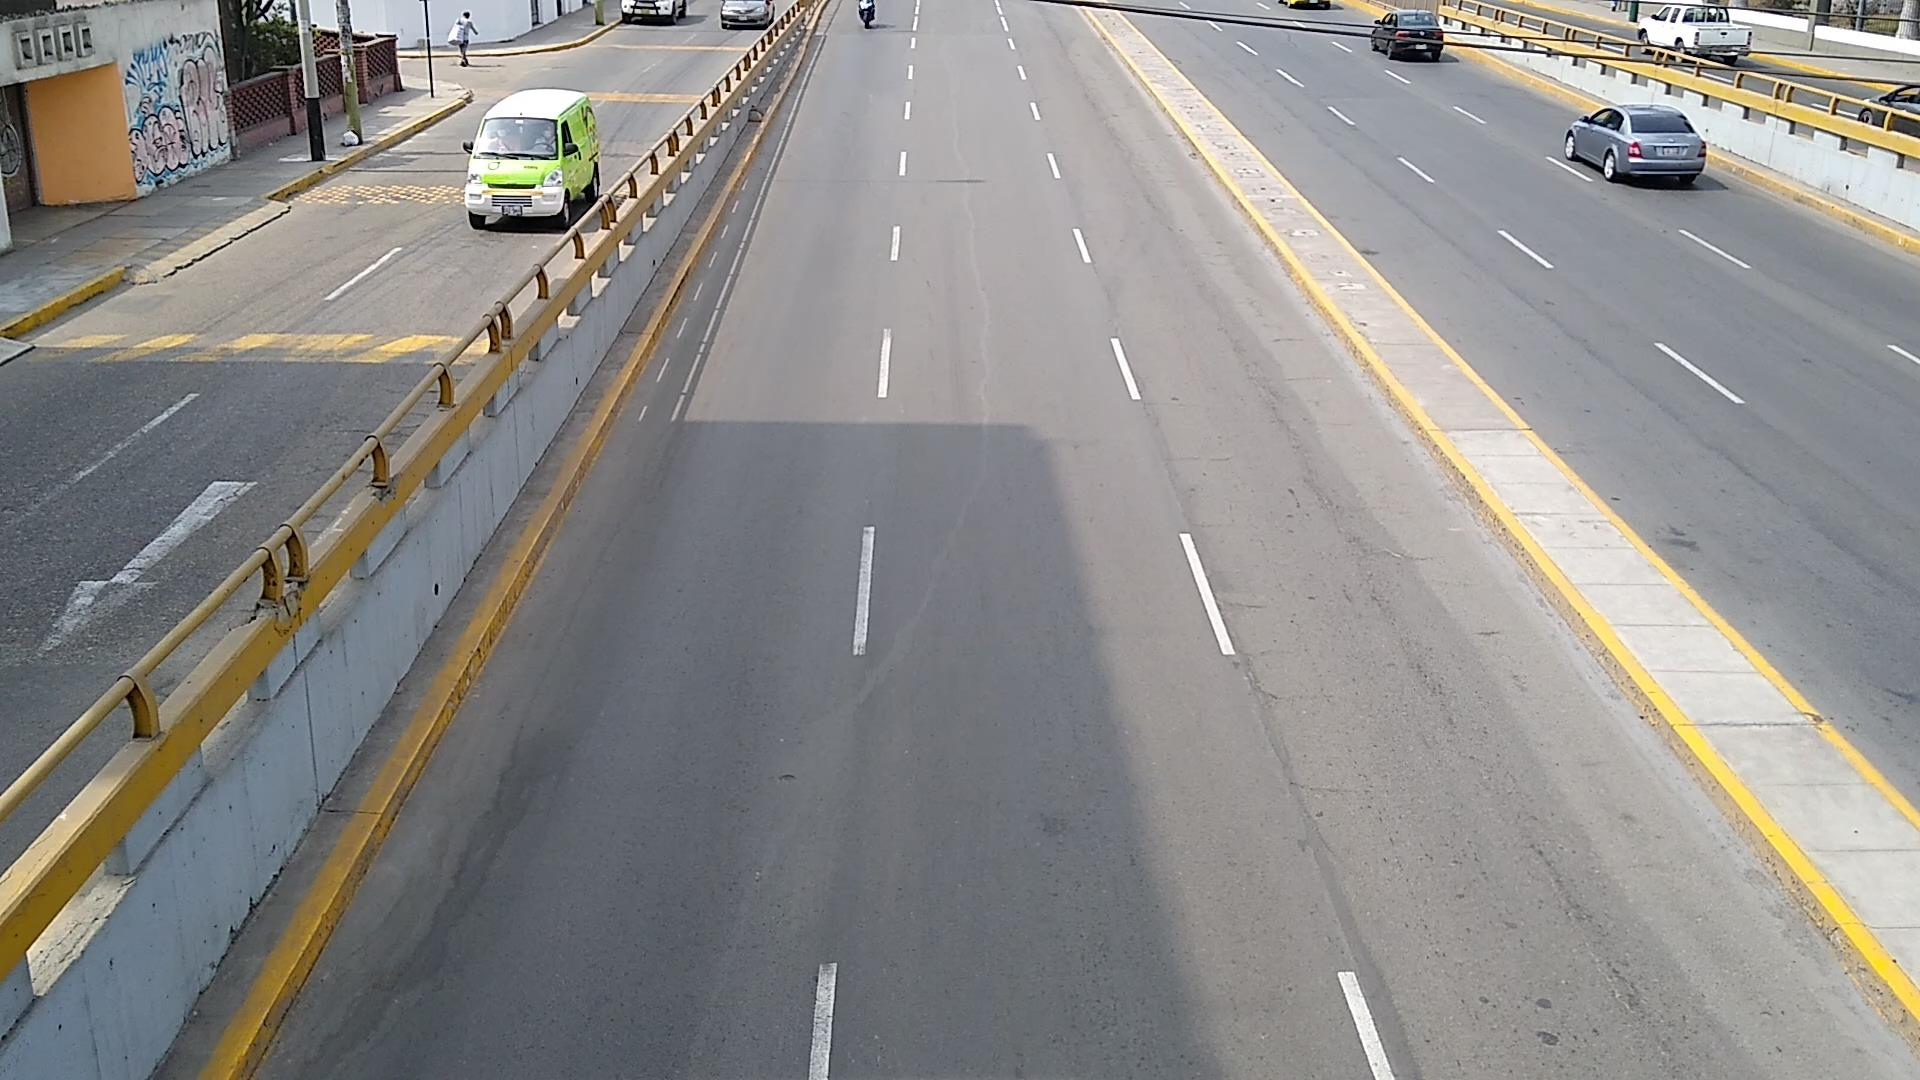car: (1564, 105, 1706, 183), (1639, 4, 1751, 58), (1373, 8, 1444, 61), (618, 0, 686, 22)
minivan: (462, 90, 600, 232)
